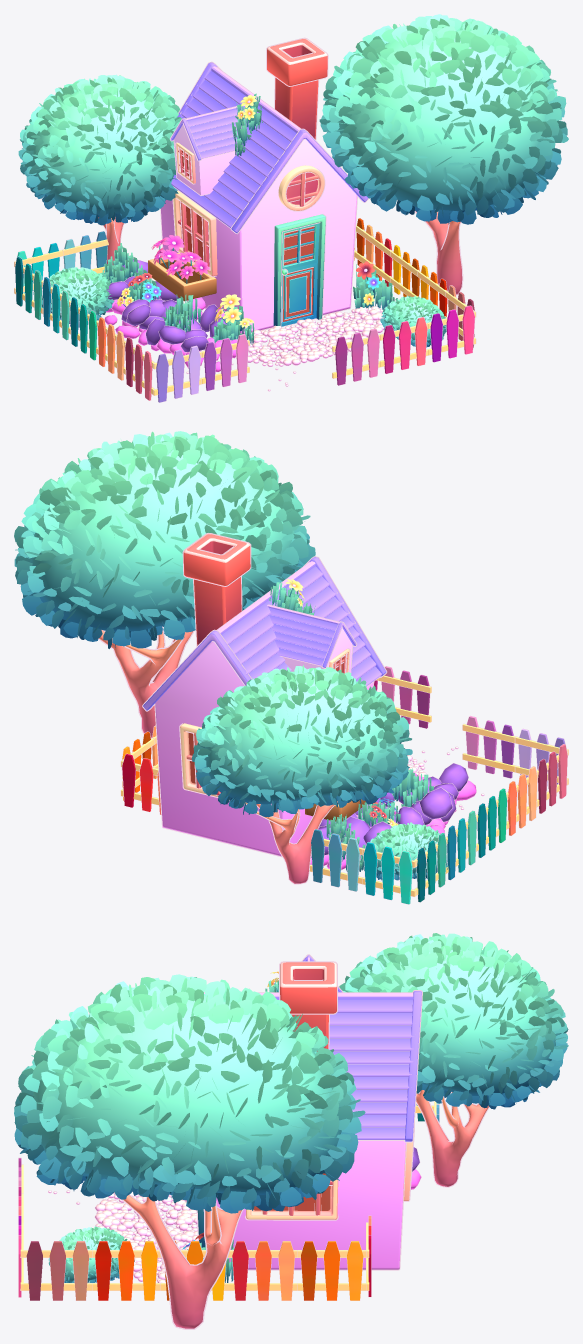
3 views of the same model, one above another, from view 1: azimuth 30°, elevation 25°; view 2: azimuth 150°, elevation 25°; view 3: azimuth 270°, elevation 25° (orthographic). The views are drawn at different scales.
Visible parts, largest first — view 1: tree1_0, House_6, tree_3, stone1_5, stone2_4, tree.002_1, Cube.019_35, Cube.012_42, Cube.020_34, Cube.010_44, Cube.011_43, Cube.001_52 (+12 smaller); view 2: tree1_0, House_6, tree_3, stone1_5, Cube.003_51, Cube.011_43, Cube.006_48, tree.002_1, Cube.020_34, Cube.018_36, Cube.005_49, Cube.008_46 (+5 smaller); view 3: tree1_0, tree_3, House_6, stone2_4, Cube.013_41, Cube.017_37, Cube.016_38, Cube.014_40, tree.001_2, Cube.015_39.
Part boxes in pixels (x1=…): tree1_0: x1=319, y1=14, x2=568, y2=295; House_6: x1=160, y1=37, x2=368, y2=333; tree_3: x1=18, y1=74, x2=181, y2=264; stone1_5: x1=104, y1=259, x2=241, y2=372; stone2_4: x1=171, y1=306, x2=385, y2=391; tree.002_1: x1=41, y1=267, x2=114, y2=327; Cube.019_35: x1=380, y1=317, x2=428, y2=374; Cube.012_42: x1=427, y1=305, x2=476, y2=362; Cube.020_34: x1=332, y1=328, x2=380, y2=385; Cube.010_44: x1=153, y1=345, x2=201, y2=402; Cube.011_43: x1=201, y1=334, x2=249, y2=391; Cube.001_52: x1=148, y1=253, x2=216, y2=301; tree1_0: x1=14, y1=431, x2=315, y2=738; House_6: x1=142, y1=533, x2=387, y2=857; tree_3: x1=191, y1=665, x2=412, y2=884; stone1_5: x1=310, y1=763, x2=476, y2=870; Cube.003_51: x1=362, y1=842, x2=416, y2=904; Cube.011_43: x1=462, y1=715, x2=515, y2=778; Cube.006_48: x1=309, y1=829, x2=363, y2=891; tree.002_1: x1=363, y1=822, x2=448, y2=880; Cube.020_34: x1=378, y1=666, x2=431, y2=728; Cube.018_36: x1=120, y1=753, x2=161, y2=814; Cube.005_49: x1=445, y1=810, x2=476, y2=880; Cube.008_46: x1=506, y1=766, x2=537, y2=835; tree1_0: x1=14, y1=974, x2=365, y2=1329; tree_3: x1=339, y1=933, x2=568, y2=1187; House_6: x1=196, y1=954, x2=422, y2=1270; stone2_4: x1=48, y1=1190, x2=197, y2=1282; Cube.013_41: x1=23, y1=1241, x2=92, y2=1300; Cube.017_37: x1=297, y1=1241, x2=366, y2=1300; Cube.016_38: x1=229, y1=1241, x2=297, y2=1300; Cube.014_40: x1=92, y1=1241, x2=160, y2=1300; tree.001_2: x1=48, y1=1226, x2=134, y2=1282; Cube.015_39: x1=160, y1=1241, x2=229, y2=1300.
Bounding box in the file's own units: 9.68 × 5.63 × 8.44.
Materials: 2 (1 with a texture image).
